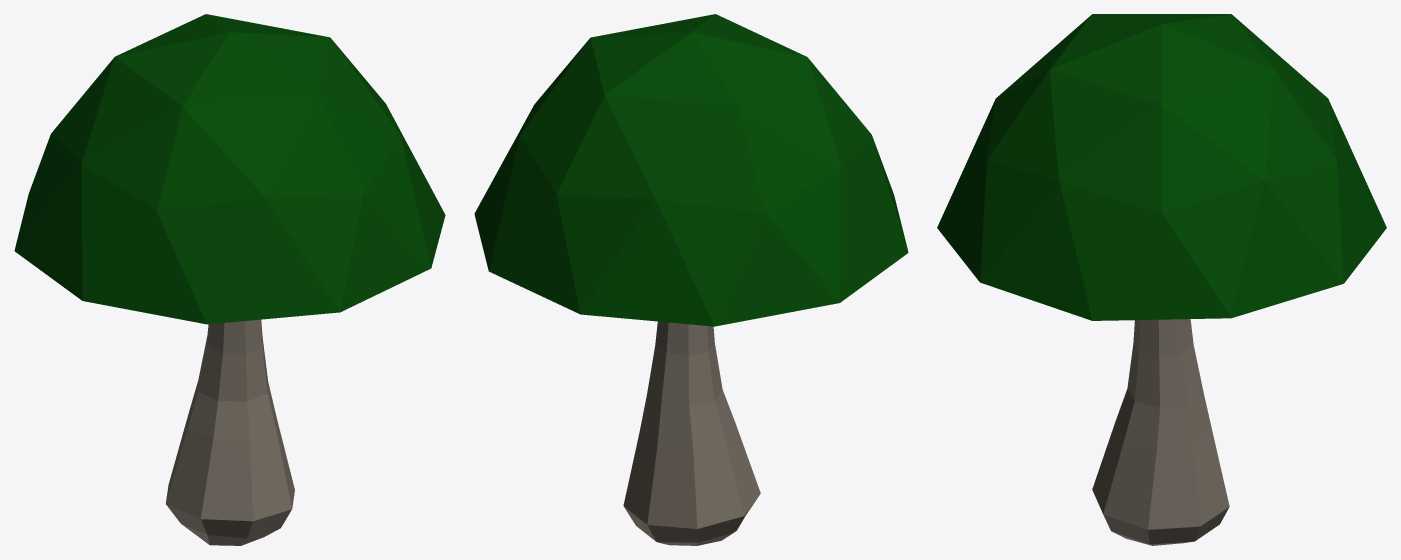
Rendered from mushroom-3.glb.
3 views of the same model, side by side, from view 1: azimuth 30°, elevation 25°; view 2: azimuth 150°, elevation 25°; view 3: azimuth 270°, elevation 25° (orthographic). The views are drawn at different scales.
Parts seen in each view (by area): view 1: Mushroom 3; view 2: Mushroom 3; view 3: Mushroom 3.
Boxes of the visible parts, x1,y1,x2,y2 form: Mushroom 3: [14, 14, 445, 545]; Mushroom 3: [474, 14, 908, 545]; Mushroom 3: [937, 14, 1386, 545].
Size of the model in its own units: 1.24 by 1.62 by 1.3.
